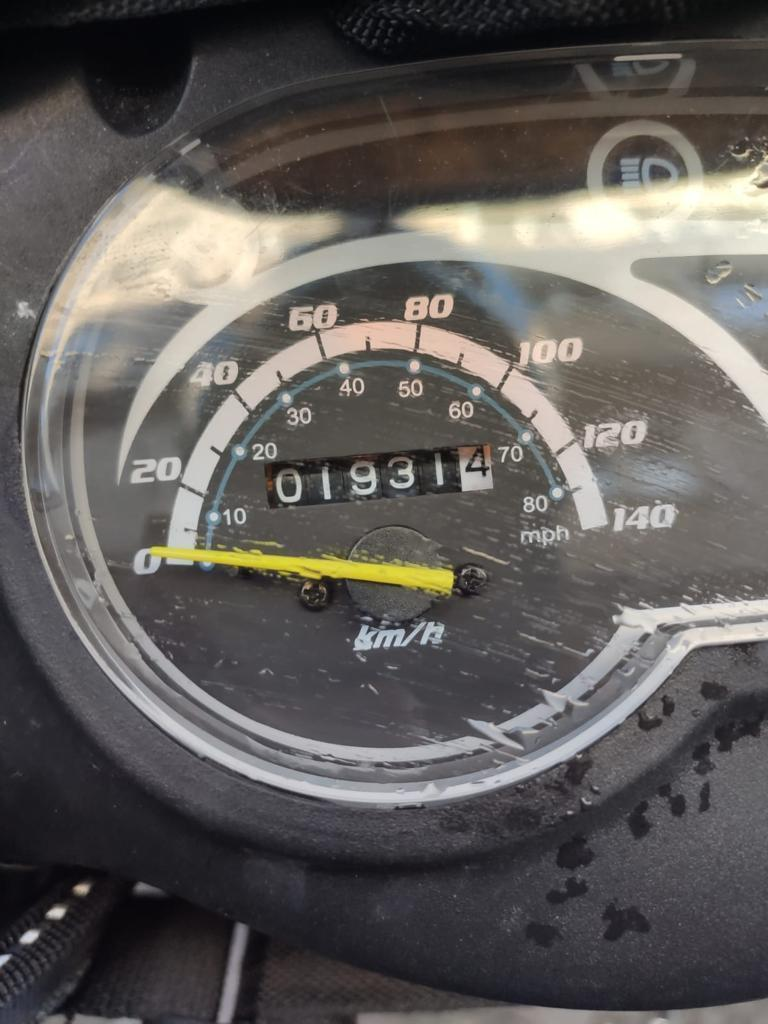0: (272, 466, 304, 504), (263, 441, 278, 460)
1: (429, 449, 448, 487), (316, 462, 334, 502)
3: (385, 454, 417, 490)
4: (463, 445, 490, 477)
9: (346, 459, 379, 496)
odometer: (261, 438, 498, 513)
